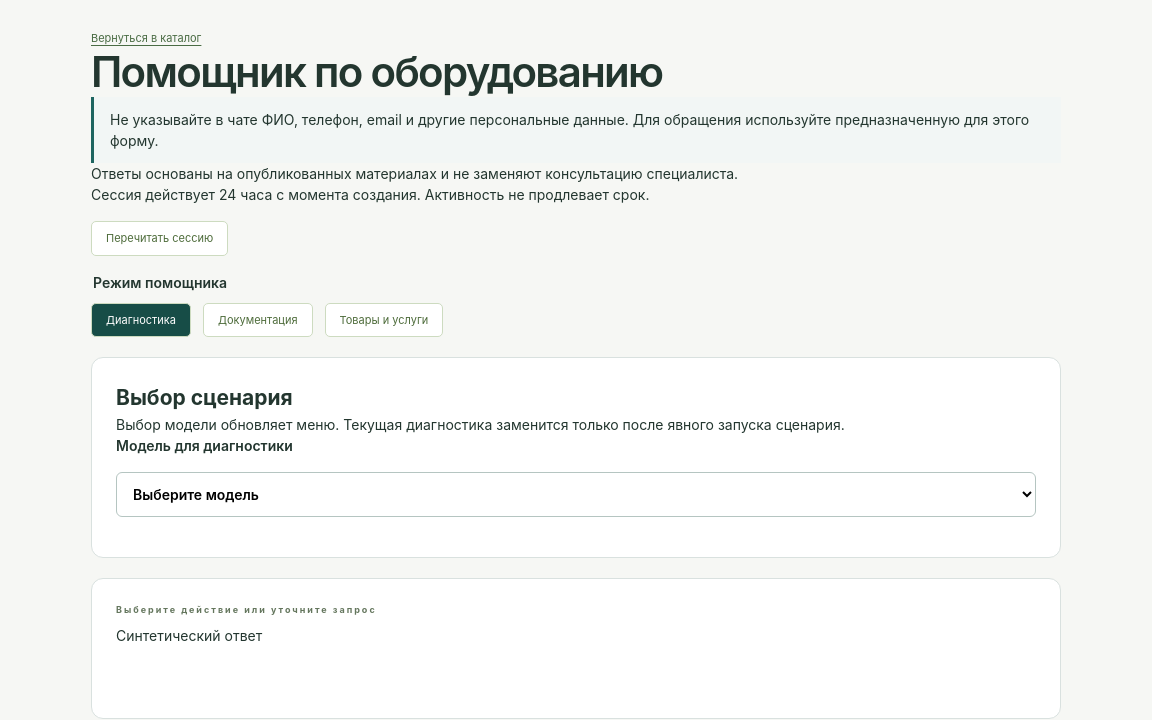
Test: shows empty scenario state and resets the menu when the model changes
The width and height of the screenshot is (1152, 720).
Select "Демо-модель" in the dropdown labelled "Модель для диагностики" at (576, 494), box left=116, top=472, right=1036, bottom=517
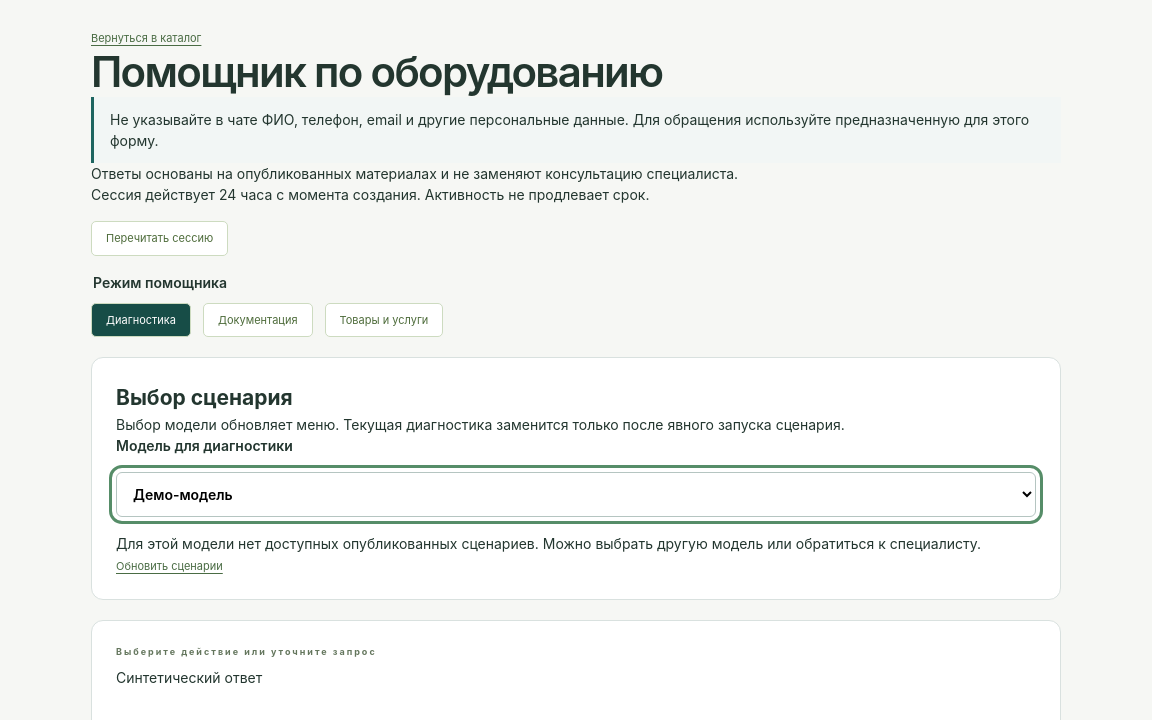
Now the text "Для этой модели нет доступных опубликованных сценариев" is shown, box left=116, top=535, right=981, bottom=552
Select "Выберите модель" in the dropdown labelled "Модель для диагностики" at (576, 494), box left=116, top=472, right=1036, bottom=517
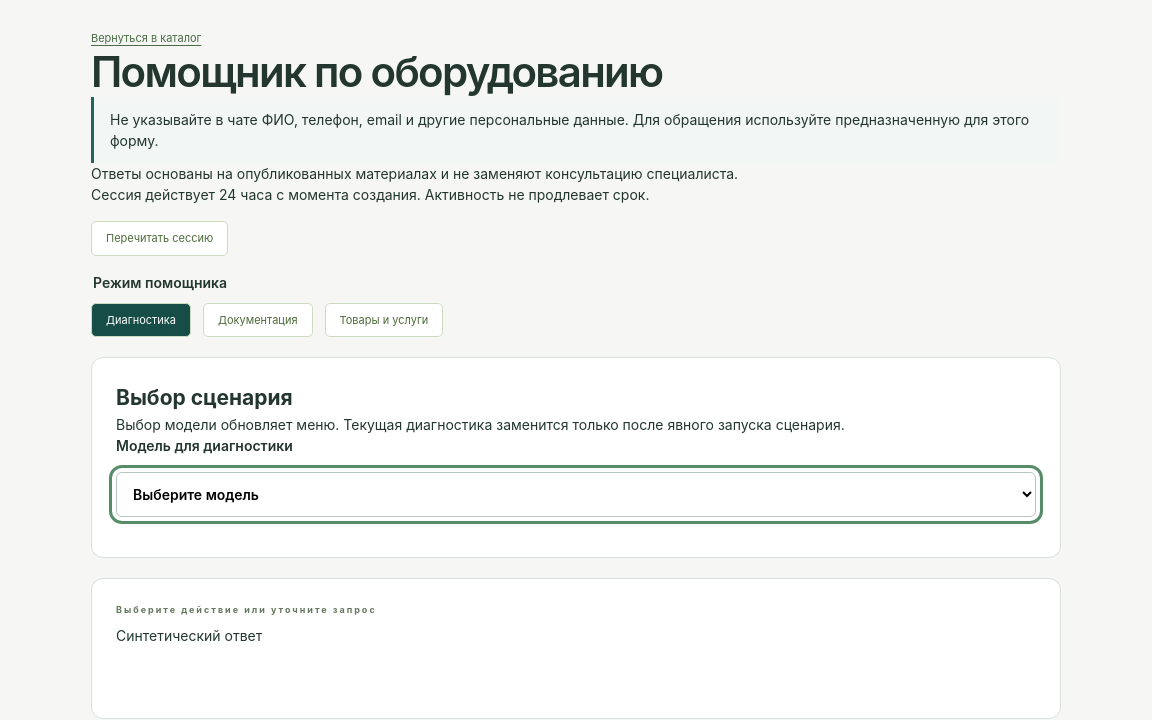
Now the text "Для этой модели нет доступных опубликованных сценариев" is gone
